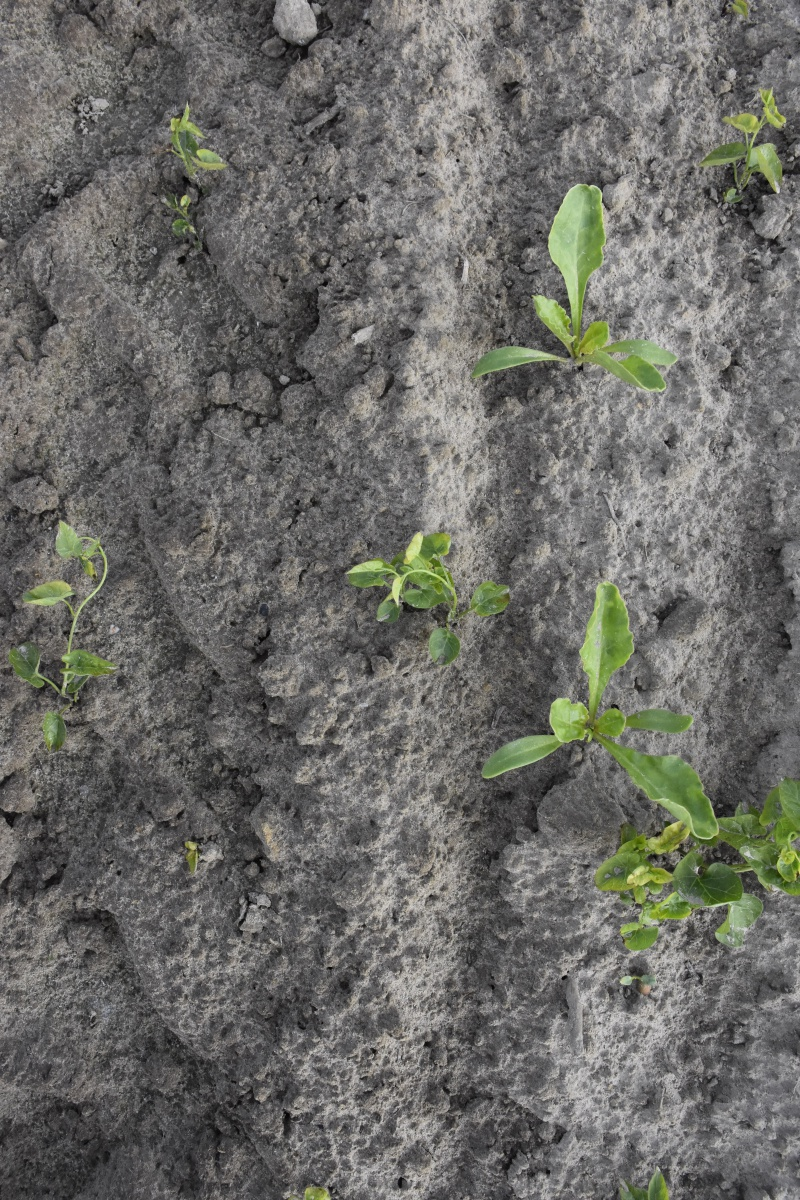field bindweed: (603, 789, 800, 946), (7, 515, 136, 744), (353, 538, 513, 662), (707, 84, 800, 205), (158, 91, 220, 218)
sugar beet: (484, 572, 731, 844), (476, 185, 690, 404)
